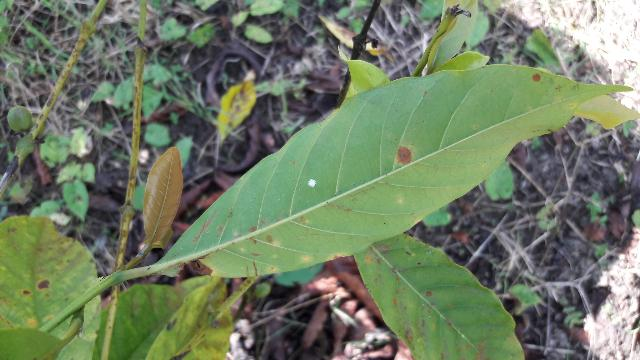red_spider_mite: (160, 64, 626, 280)
